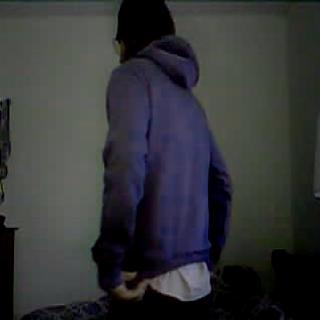Blue Hoodie: (101, 48, 230, 276)
Navy Sweatpants: (101, 291, 213, 320)
